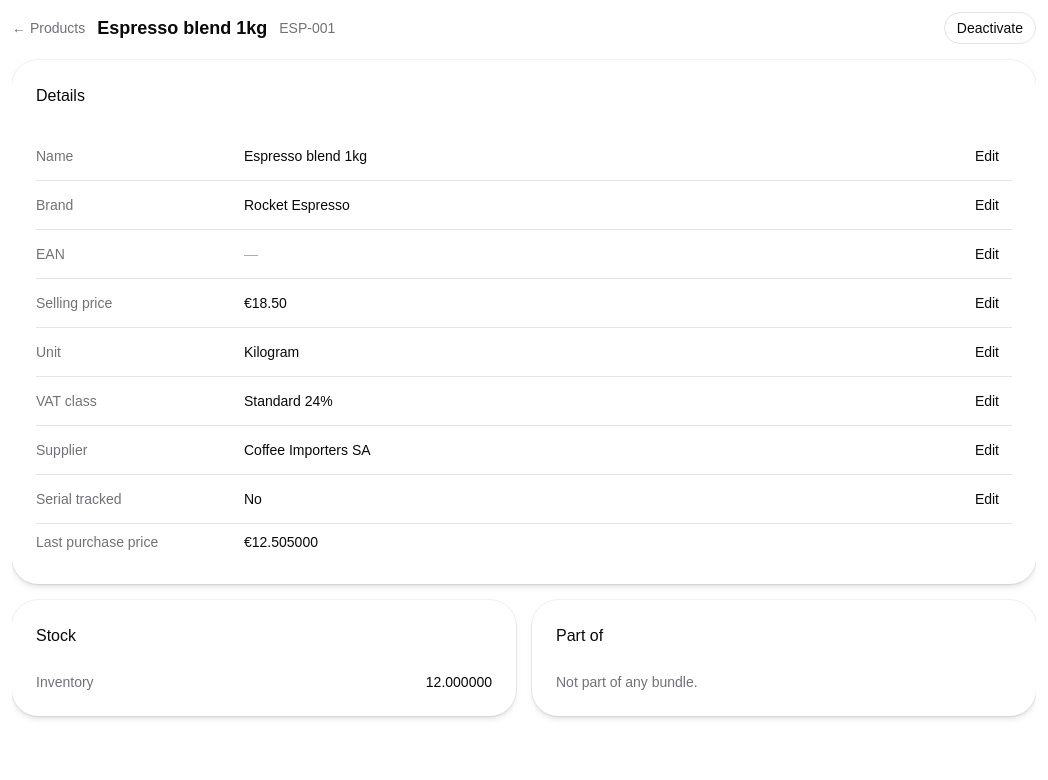
Test case: the product detail › keeps a refused change on screen with the reason
expect the heading "Espresso blend 1kg" is shown: met, box [97,14,267,42]
Click the button with aria-label "Edit Name" at (987, 156), box [962,140,1012,172]
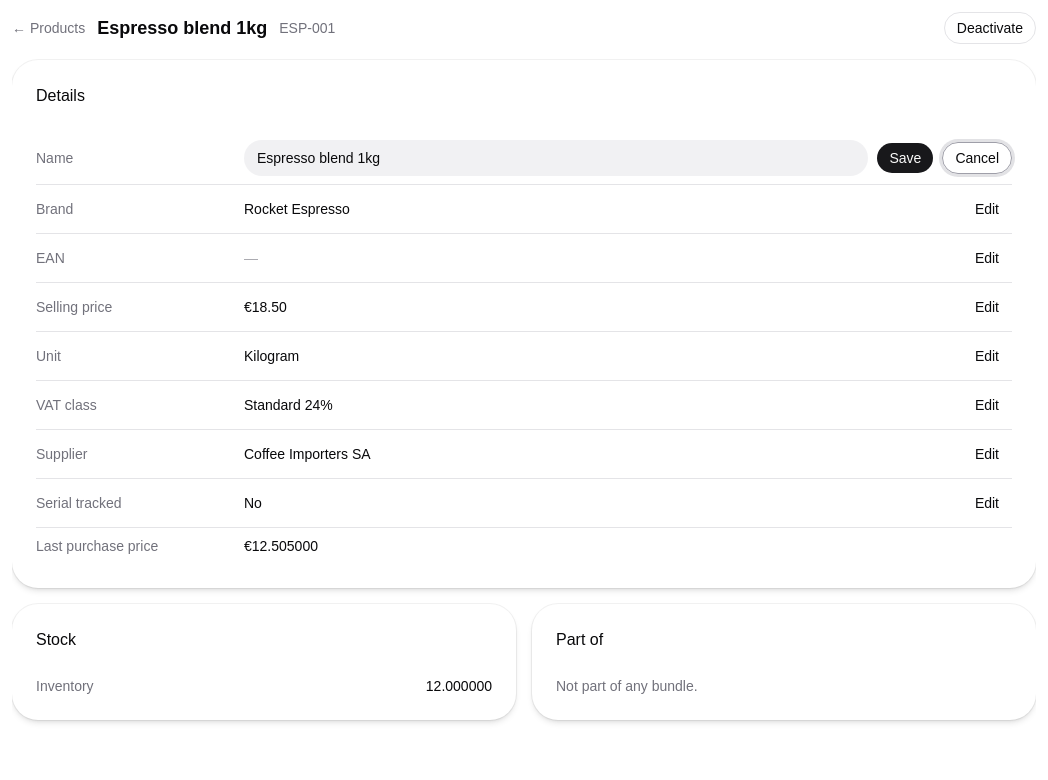
Type " XL" into the field named "Name" at (556, 158), box [244,140,868,176]
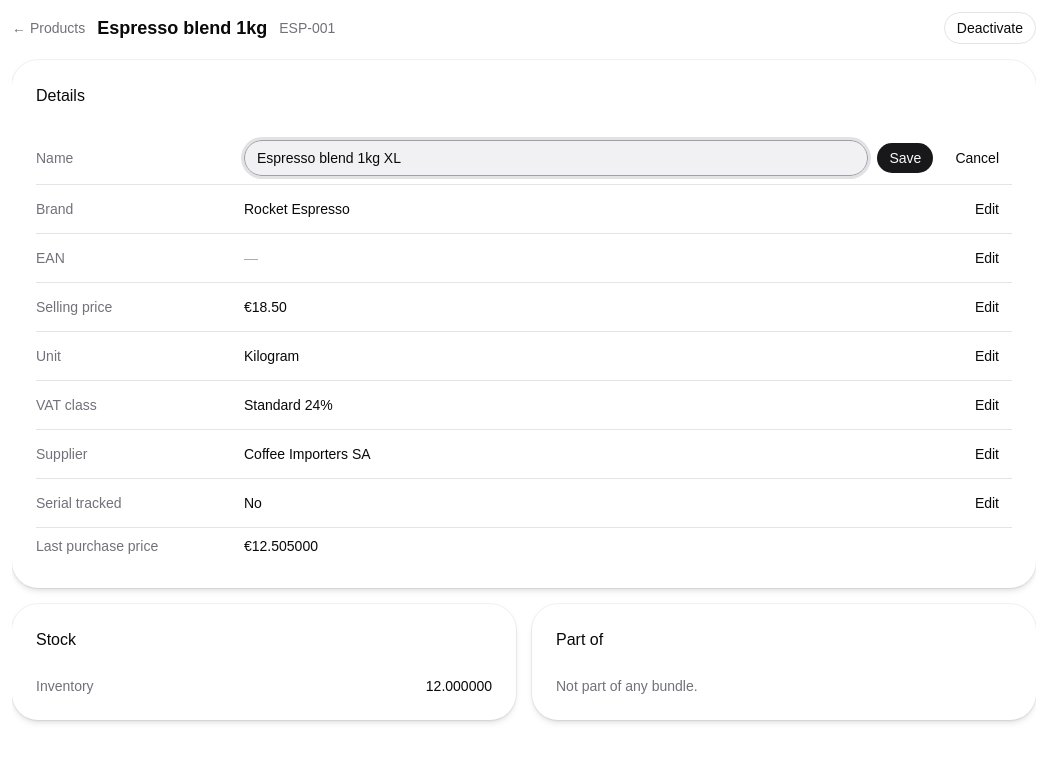
Click the button "Save" at (905, 158), box [876,142,934,174]
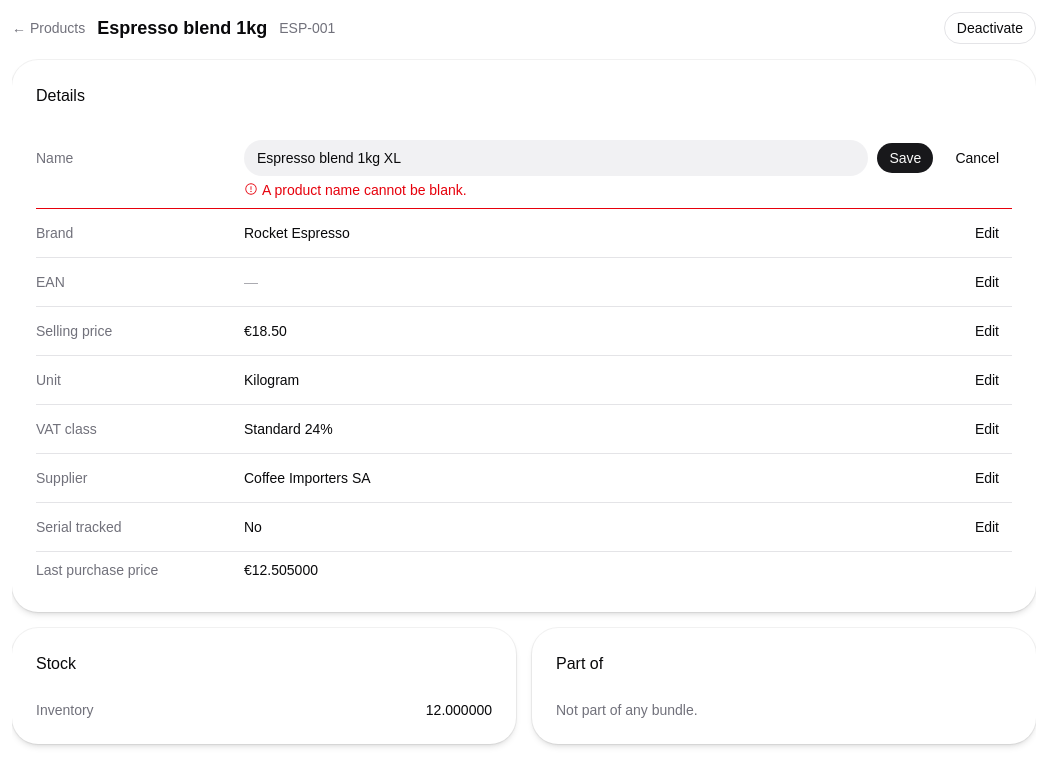
expect the field named "Name" holds "Espresso blend 1kg XL": met, box [244,140,868,176]
expect the message reads "A product name cannot be blank.": met, box [262,182,467,198]
